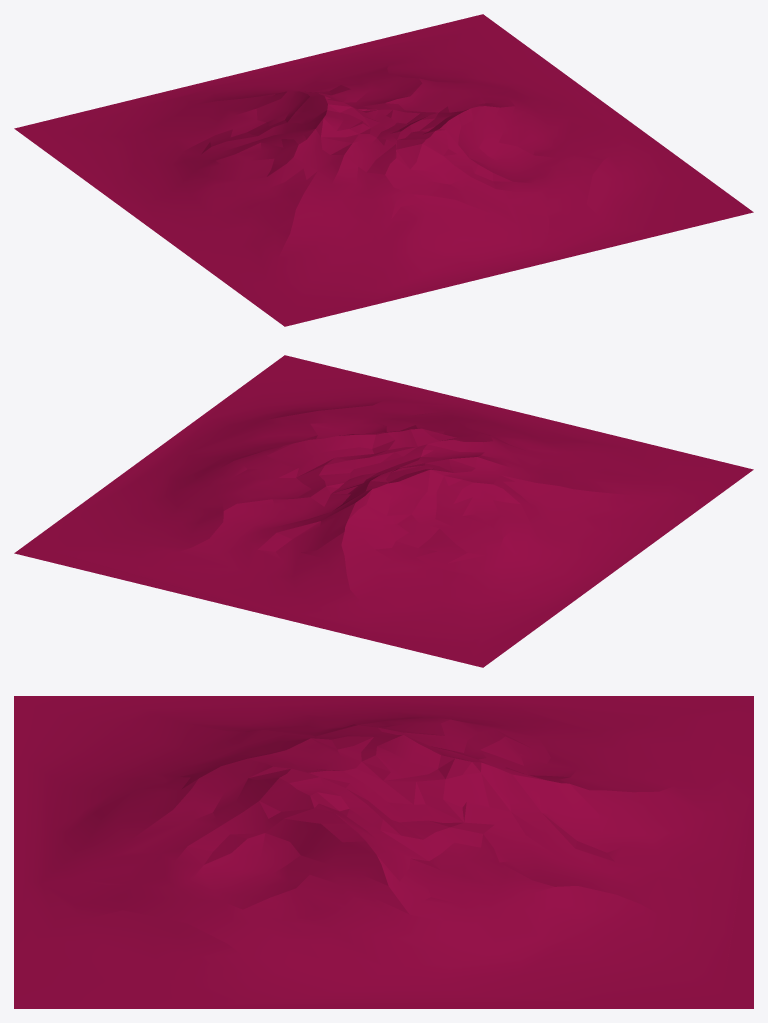
File: landscape_main.fbx
3 views of the same model, one above another, from view 1: azimuth 30°, elevation 25°; view 2: azimuth 150°, elevation 25°; view 3: azimuth 270°, elevation 25° (orthographic). The views are drawn at different scales.
Visible parts, largest first — view 1: landscape_main; view 2: landscape_main; view 3: landscape_main.
Boxes of the visible parts, x1=… form: landscape_main: x1=14, y1=14, x2=753, y2=326; landscape_main: x1=14, y1=355, x2=753, y2=667; landscape_main: x1=14, y1=696, x2=753, y2=1008.
Size of the model in its own units: 16875 by 2068 by 16875.
